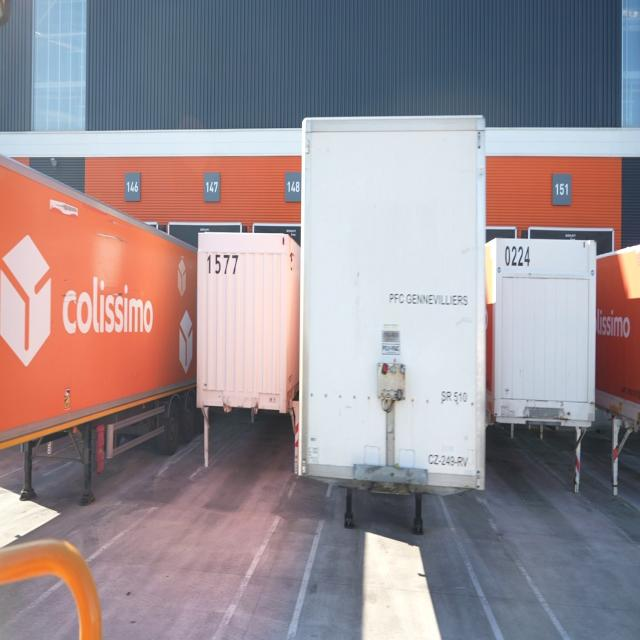Code: (205, 252, 241, 278), (501, 243, 533, 271)
